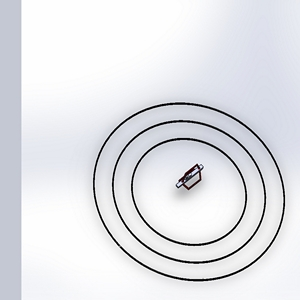circle: (86, 99, 294, 284)
submarine: (166, 158, 213, 206)
